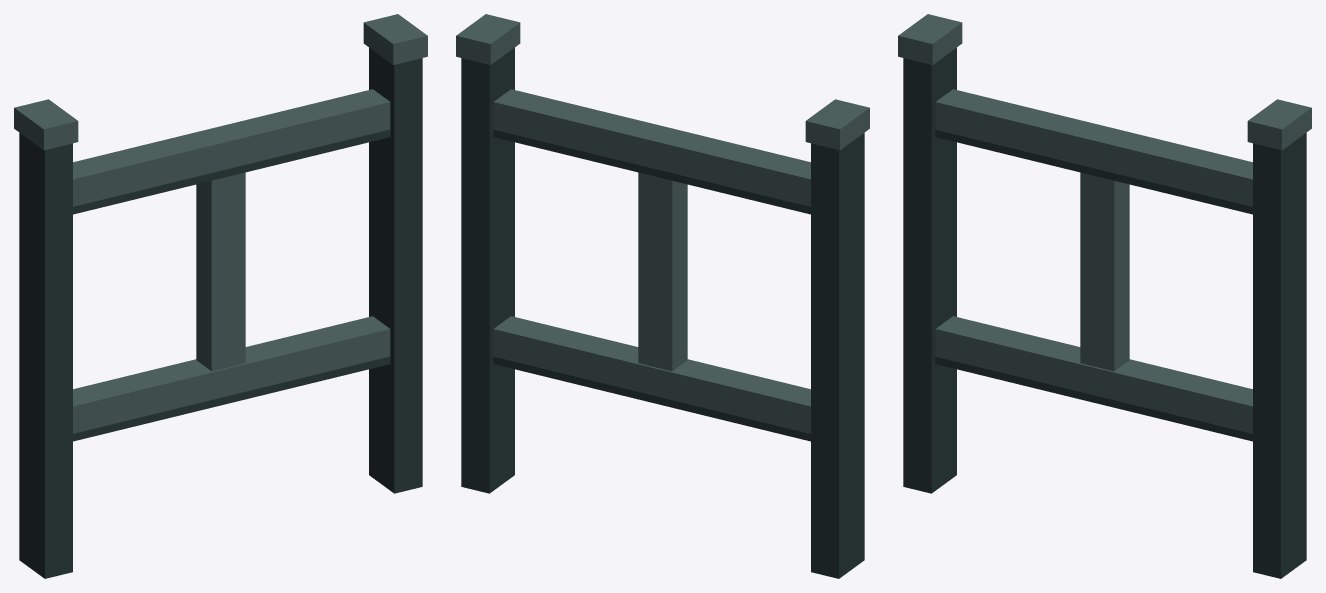
File: CMU3DStandardHandrail.glb
The picture shows the model from 3 angles, left to right: view 1: azimuth 30°, elevation 25°; view 2: azimuth 150°, elevation 25°; view 3: azimuth 330°, elevation 25°; orthographic projection.
Visible parts, largest first — view 1: end post (×2), horizontal rail (×2), center brace, rail underside (×2), post cap (×2); view 2: end post (×2), horizontal rail (×2), center brace, rail underside (×2), post cap (×2); view 3: end post (×2), horizontal rail (×2), center brace, rail underside (×2), post cap (×2).
Part boxes in pixels (box(x1,y1,x2,y2)): end post (×2): box(19, 47, 422, 578); horizontal rail (×2): box(73, 89, 390, 433); center brace: box(196, 172, 245, 371); rail underside (×2): box(73, 129, 390, 441); post cap (×2): box(14, 14, 427, 150); end post (×2): box(461, 47, 864, 578); horizontal rail (×2): box(493, 89, 810, 433); center brace: box(638, 172, 687, 371); rail underside (×2): box(493, 129, 810, 441); post cap (×2): box(456, 14, 869, 150); end post (×2): box(903, 47, 1306, 578); horizontal rail (×2): box(935, 89, 1252, 433); center brace: box(1080, 172, 1129, 371); rail underside (×2): box(935, 129, 1252, 441); post cap (×2): box(898, 14, 1311, 150).
Size of the model in its own units: 0.956 by 1.07 by 0.128.
